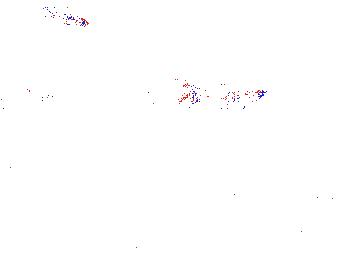X-ray fish: (27, 122, 43, 152)
glassfish: (310, 174, 346, 210)
red belly glassfish: (51, 11, 88, 29)
redtail glassfish: (180, 75, 245, 112), (181, 86, 271, 104), (6, 80, 58, 103)
